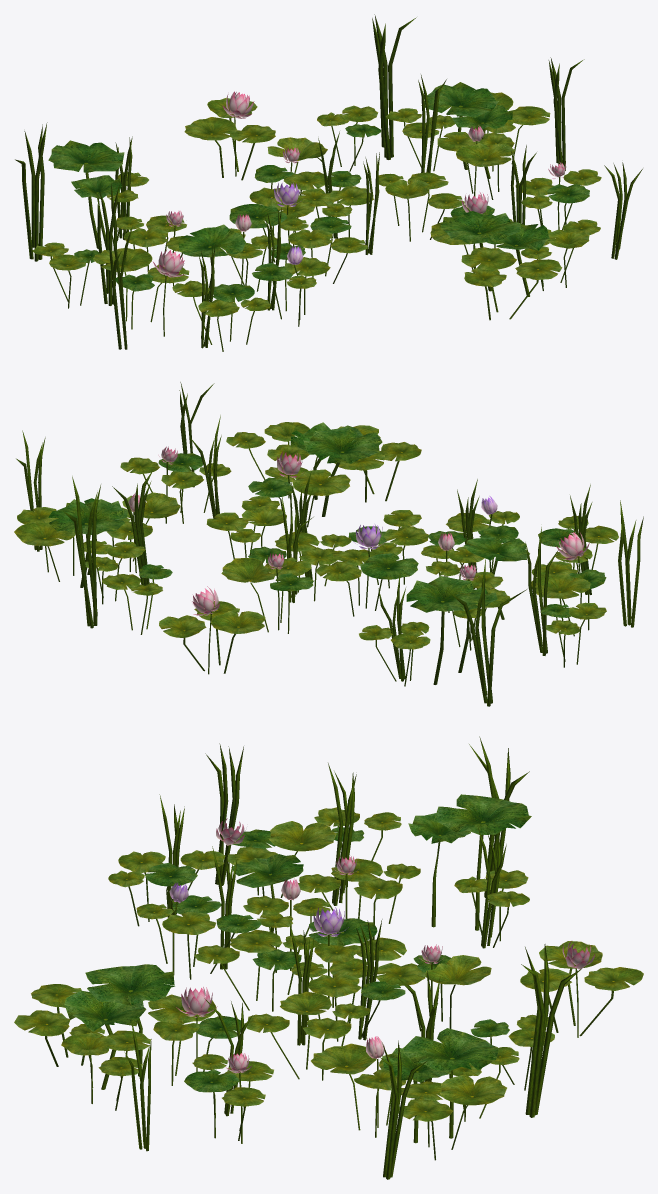
File: 4st_lotus_001.glb
The picture shows the model from 3 angles, top to bottom: view 1: azimuth 30°, elevation 25°; view 2: azimuth 150°, elevation 25°; view 3: azimuth 270°, elevation 25°; orthographic projection. The views are drawn at different scales.
Visible parts, largest first — view 1: lotus_19; view 2: lotus_19; view 3: lotus_19.
Boxes of the visible parts, x1=… form: lotus_19: x1=15, y1=14, x2=642, y2=351; lotus_19: x1=14, y1=382, x2=643, y2=706; lotus_19: x1=14, y1=736, x2=643, y2=1179.
Bounding box in the file's own units: 21.49 × 5.32 × 17.8.
2 materials, 2 textured.
